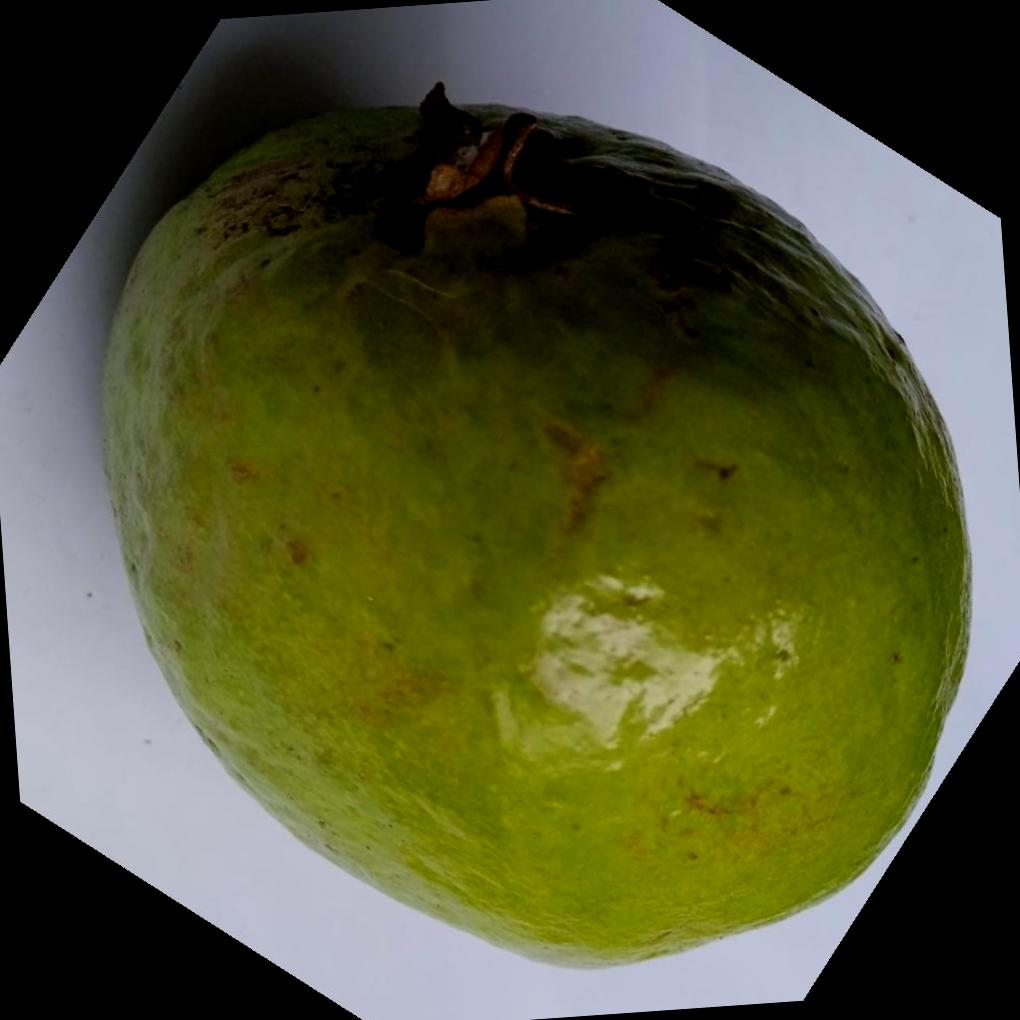FreshGuava: (92, 81, 969, 971)
